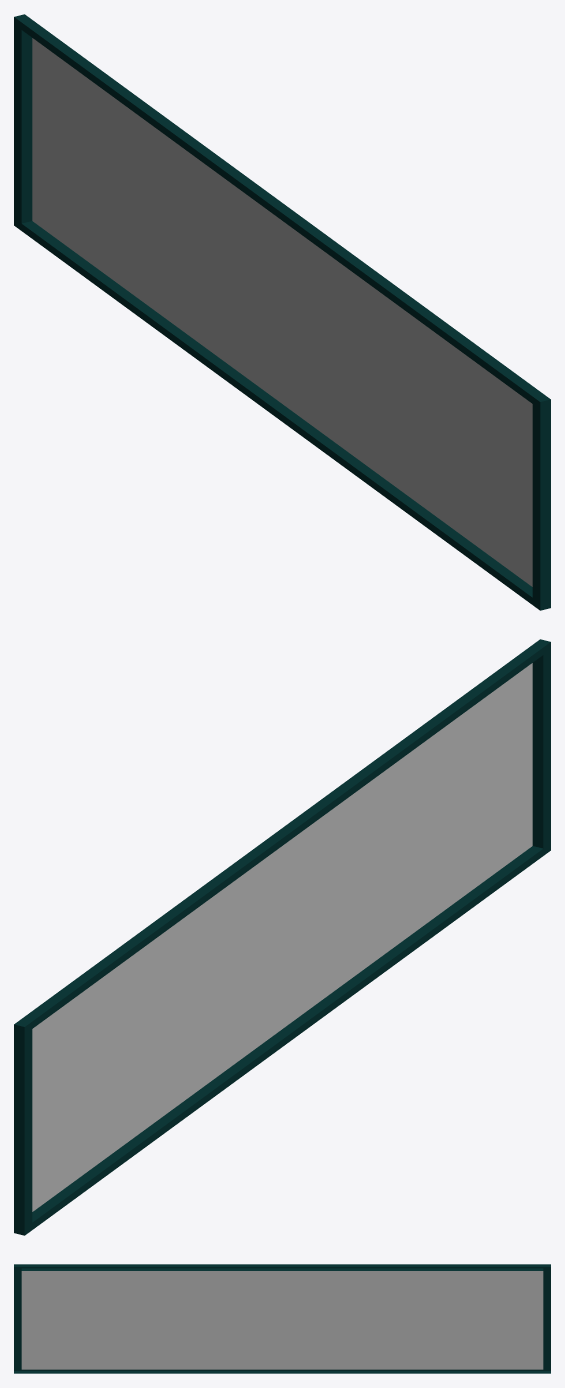
Rendered from Hea_Ba_Mirror.fbx.
3 views of the same model, one above another, from view 1: azimuth 30°, elevation 25°; view 2: azimuth 150°, elevation 25°; view 3: azimuth 270°, elevation 25° (orthographic). The views are drawn at different scales.
Parts seen in each view (by area): view 1: Mirror; view 2: Mirror; view 3: Mirror.
Part boxes in pixels (x1,y1,x2,y2): Mirror: (14,14,550,610); Mirror: (14,639,550,1235); Mirror: (14,1264,550,1373).
Size of the model in its own units: 7.35 by 136 by 623.
